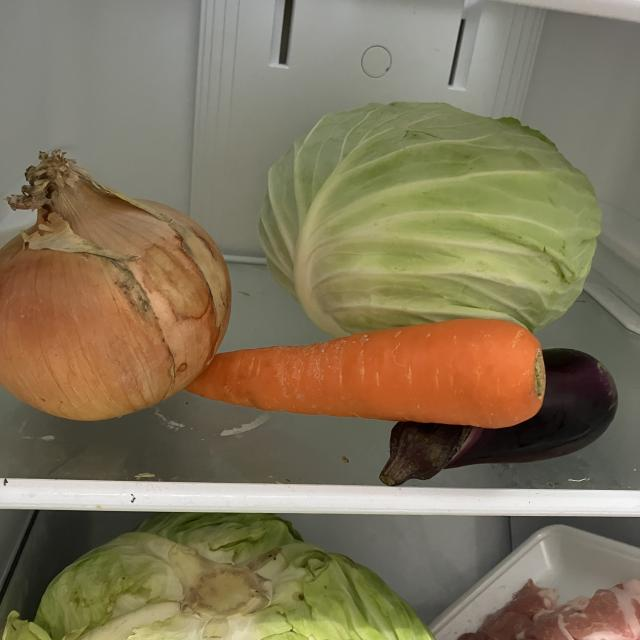cabbage: (257, 103, 608, 346), (1, 510, 434, 640)
carrot: (178, 317, 552, 434)
eggplant: (379, 346, 623, 492)
onion: (1, 149, 236, 428)
